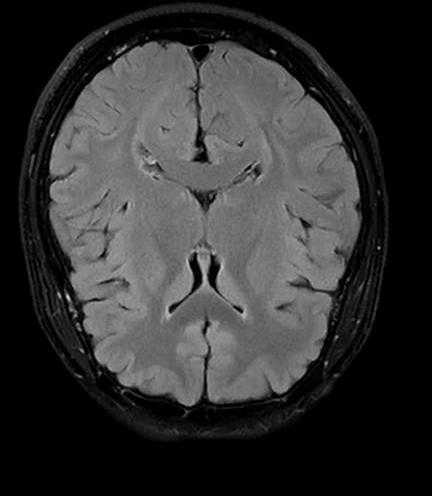Normal_Brain: (1, 1, 405, 496)
